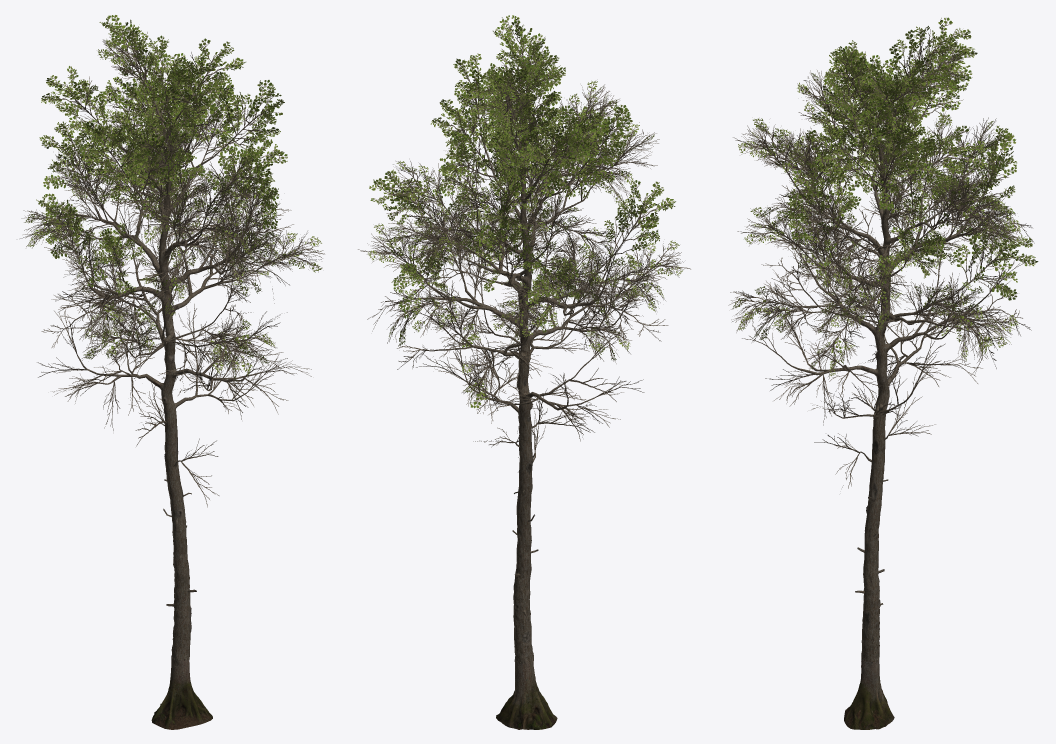
Rendered from SM_BlackAlder_Forest_03_PP_LOD2.gltf.
3 renders of one model, left to right at view 1: azimuth 30°, elevation 25°; view 2: azimuth 150°, elevation 25°; view 3: azimuth 270°, elevation 25°, orthographic.
Parts seen in each view (by area): view 1: SM_BlackAlder_Forest_03_PP; view 2: SM_BlackAlder_Forest_03_PP; view 3: SM_BlackAlder_Forest_03_PP.
Boxes of the visible parts, bbox=[...] form: SM_BlackAlder_Forest_03_PP: bbox=[20, 15, 324, 729]; SM_BlackAlder_Forest_03_PP: bbox=[358, 15, 690, 729]; SM_BlackAlder_Forest_03_PP: bbox=[728, 17, 1038, 729].
Bounding box in the file's own units: 7.24 × 17.69 × 7.4.
Materials: 4 (4 with a texture image).
